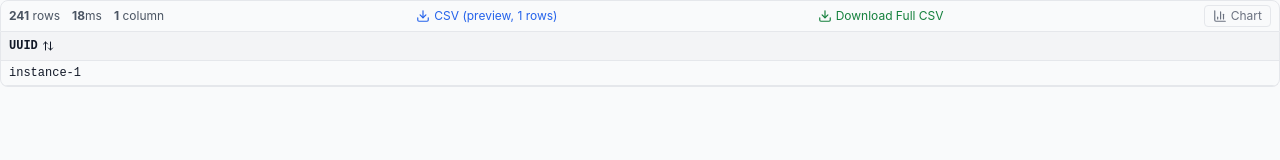
Scenario: ResultsTable full CSV download › shows an error when the full export download fails
Click the button "Download Full CSV". click: (881, 16)
box: [818,8,944,24]
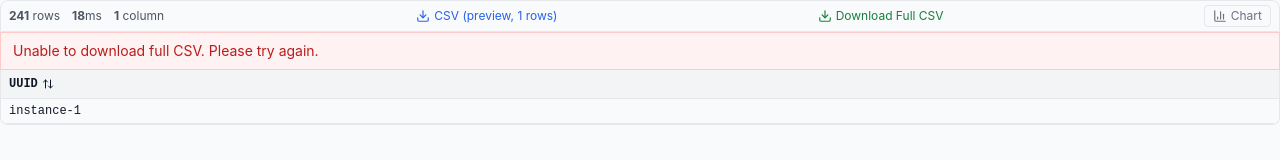
Check: the message shows "Unable to download full CSV.", box [13,42,319,59]
